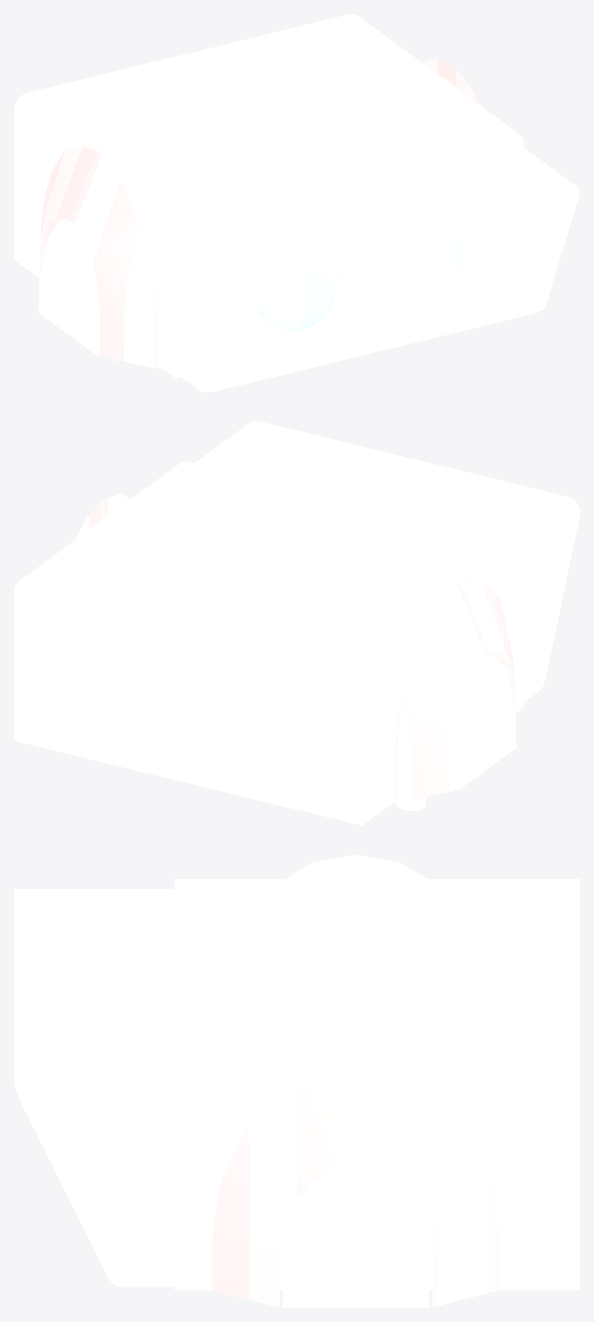
File: Head_01.gltf
The picture shows the model from 3 angles, top to bottom: view 1: azimuth 30°, elevation 25°; view 2: azimuth 150°, elevation 25°; view 3: azimuth 270°, elevation 25°; orthographic projection. The views are drawn at different scales.
Parts seen in each view (by area): view 1: Head_v1; view 2: Head_v1; view 3: Head_v1.
Part boxes in pixels (x1,y1,x2,y2): Head_v1: (14, 14, 579, 392); Head_v1: (14, 421, 579, 825); Head_v1: (14, 854, 579, 1307).
Bounding box in the file's own units: 27.15 × 14.25 × 25.8.
Materials: 4 (2 with a texture image).
